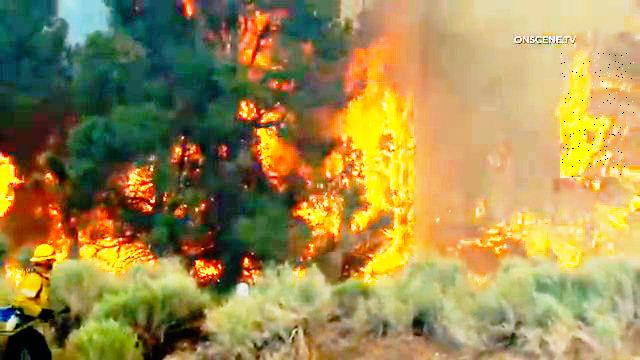fire: (315, 82, 414, 253), (561, 52, 635, 178)
